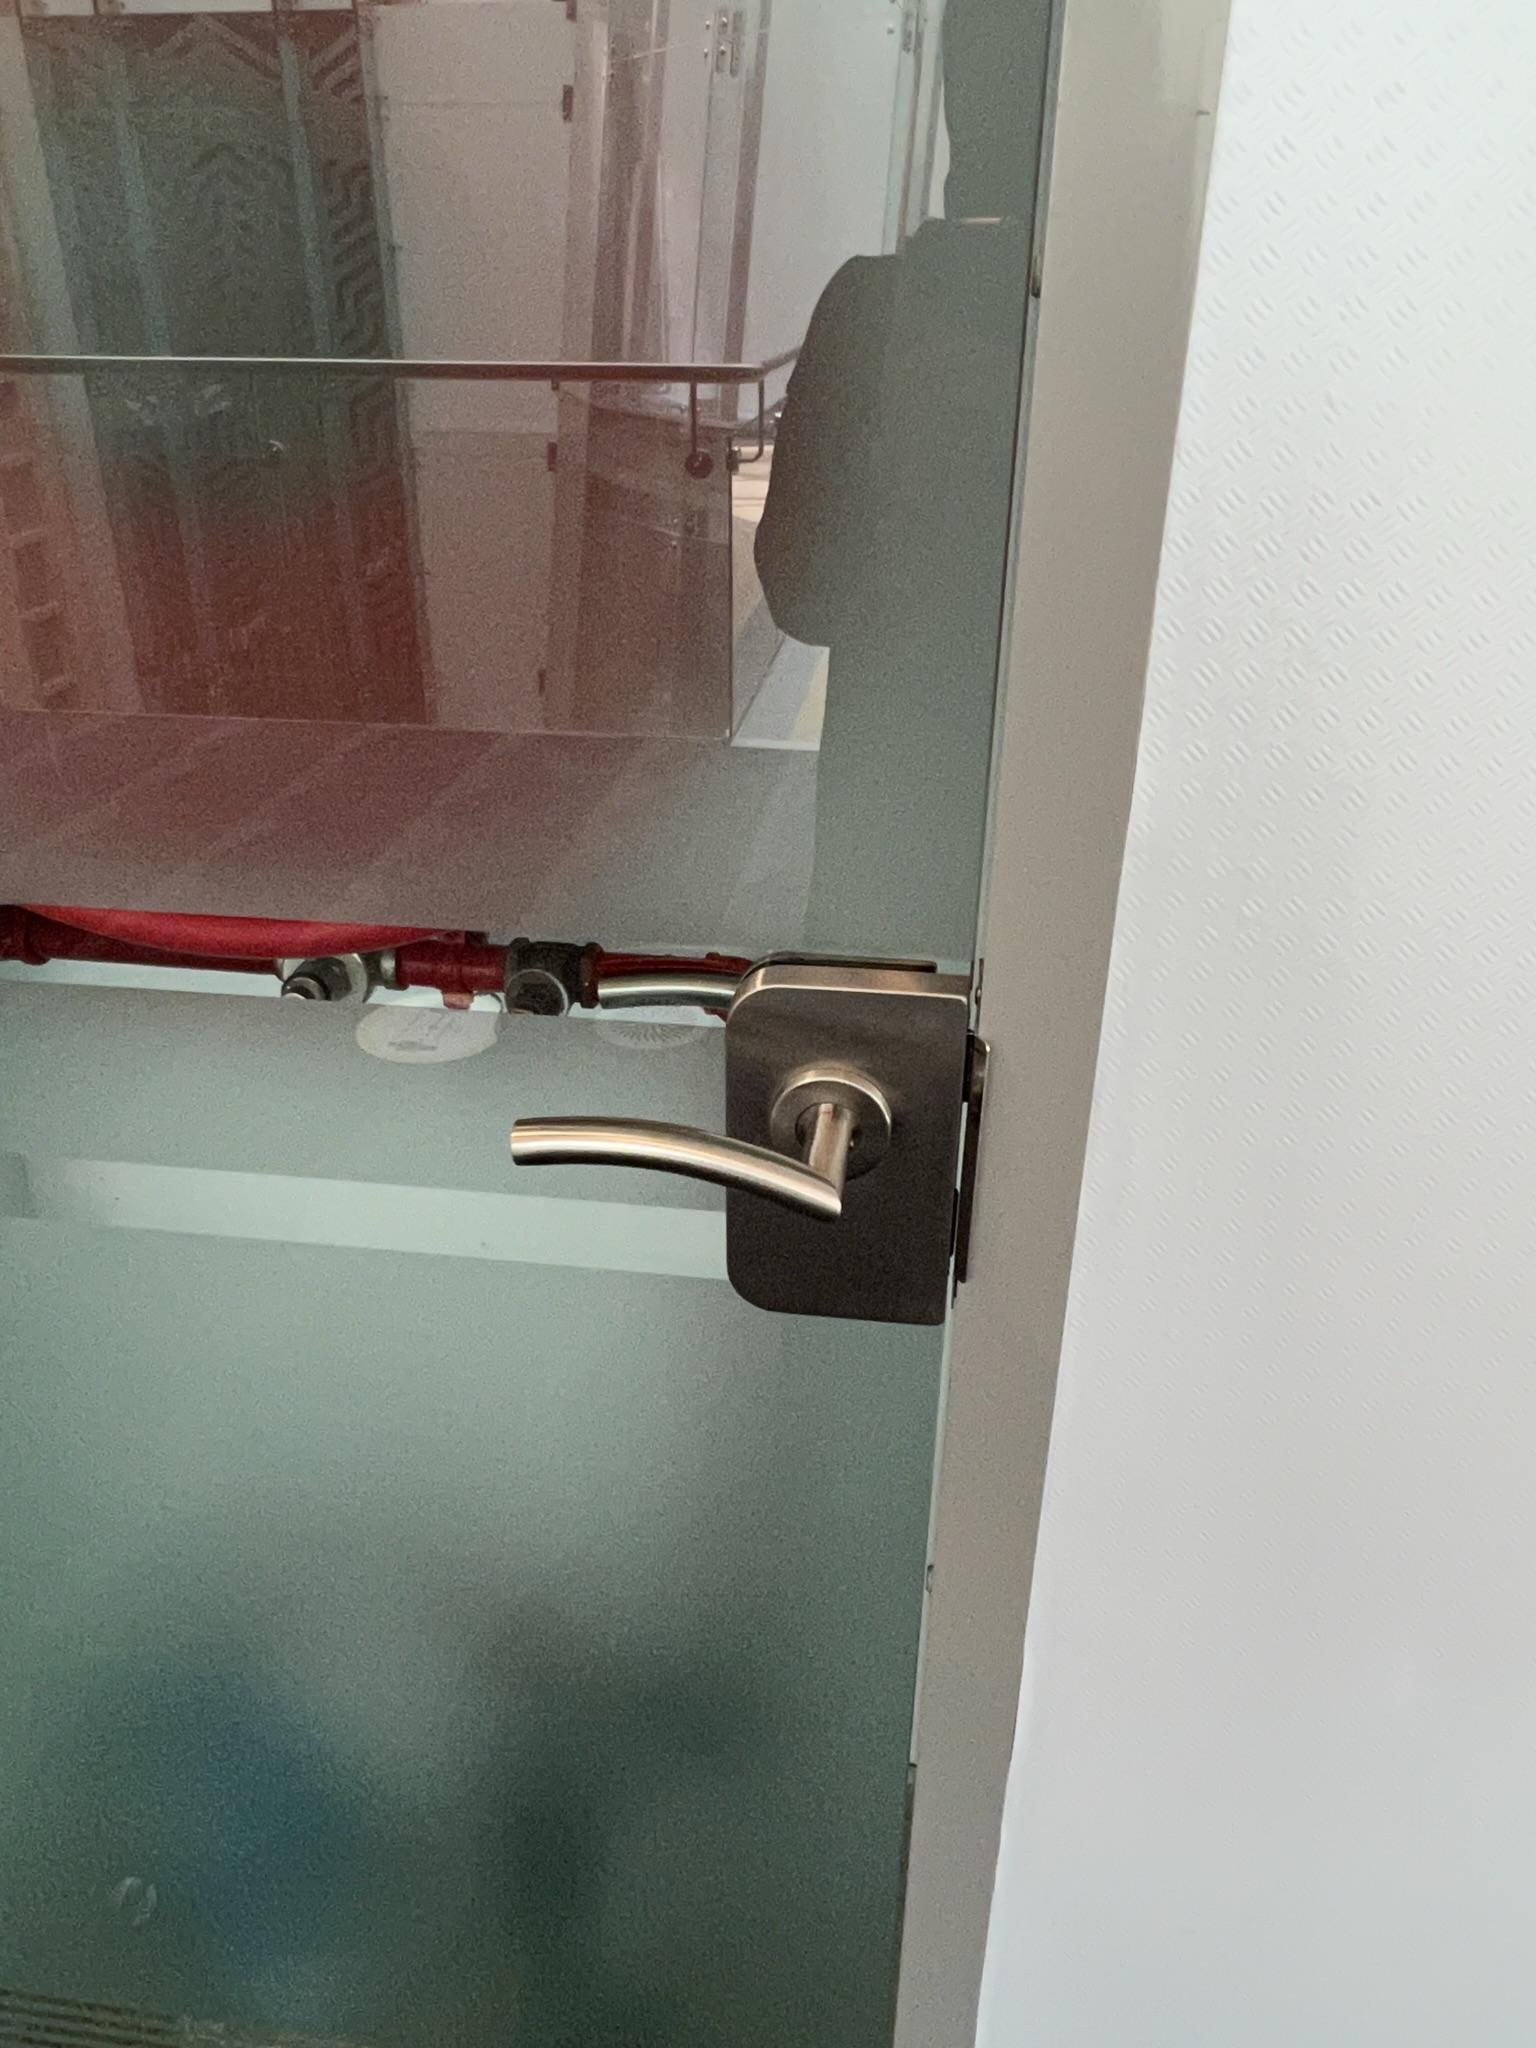handle: (508, 944, 993, 1334)
